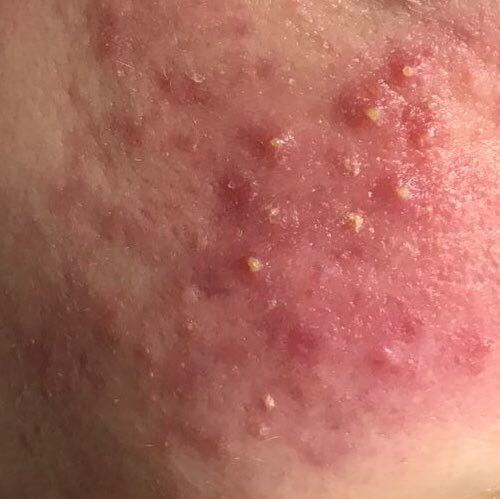jerawat: (53, 4, 500, 445)
